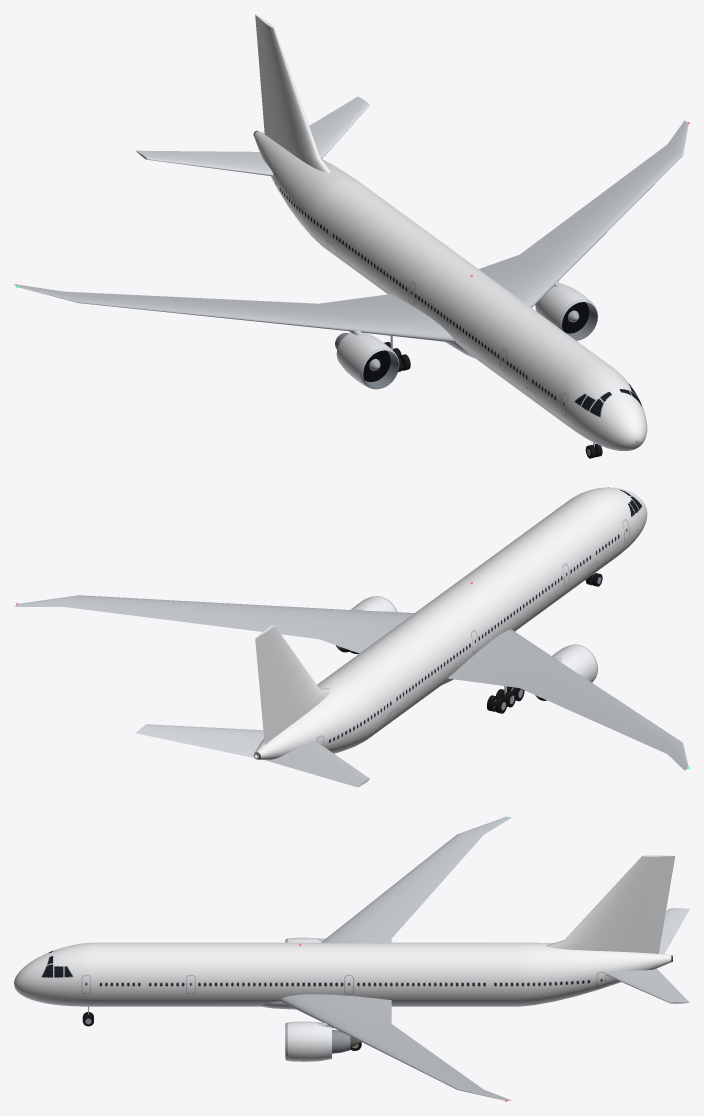
The picture shows the model from 3 angles, top to bottom: view 1: azimuth 30°, elevation 25°; view 2: azimuth 150°, elevation 25°; view 3: azimuth 270°, elevation 25°; orthographic projection. The views are drawn at different scales.
Visible parts, largest first — view 1: body; view 2: body, gear; view 3: body.
Part boxes in pixels (x1=…): body: x1=14, y1=14, x2=689, y2=450; body: x1=14, y1=487, x2=689, y2=787; gear: x1=487, y1=573, x2=602, y2=713; body: x1=14, y1=816, x2=689, y2=1101.
Size of the model in its own units: 65.12 by 17.96 by 65.36.
19 materials, 1 textured.
